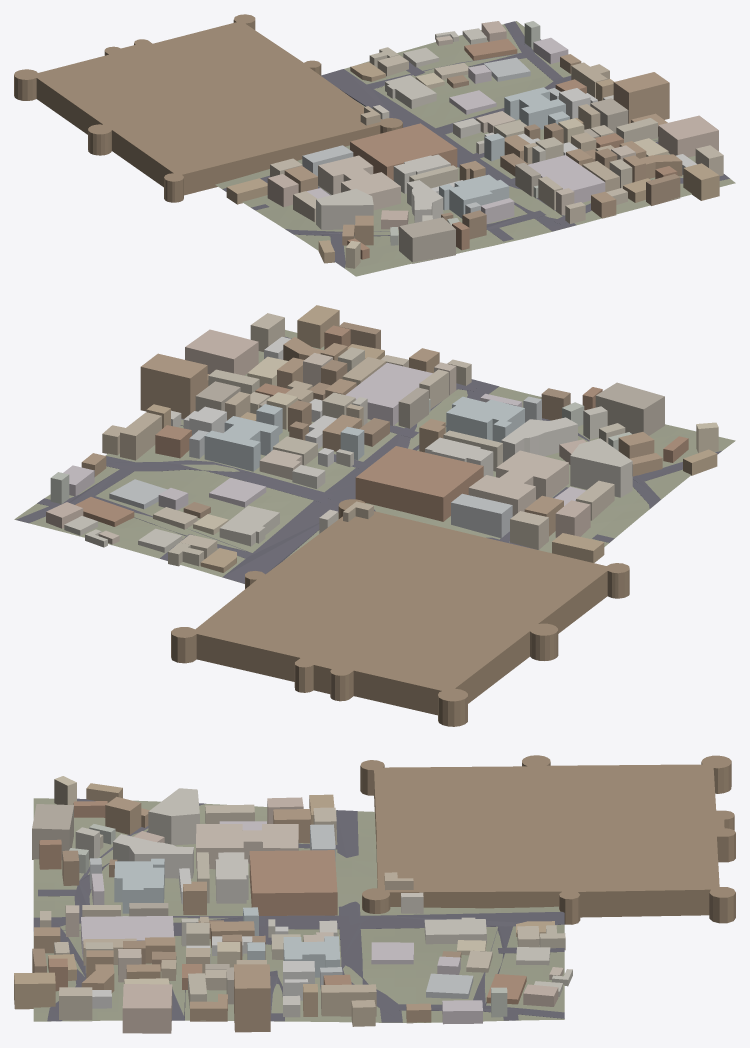
File: chunk_8_4.glb
The picture shows the model from 3 angles, top to bottom: view 1: azimuth 30°, elevation 25°; view 2: azimuth 150°, elevation 25°; view 3: azimuth 270°, elevation 25°; orthographic projection. The views are drawn at different scales.
Visible parts, largest first — view 1: geometry_114, geometry_118, geometry_115, geometry_8, geometry_113, geometry_116, geometry_89, geometry_105, geometry_9, geometry_12, geometry_123, geometry_87 (+39 smaller); view 2: geometry_114, geometry_118, geometry_115, geometry_8, geometry_113, geometry_87, geometry_123, geometry_12, geometry_9, geometry_116, geometry_105, geometry_89 (+32 smaller); view 3: geometry_114, geometry_118, geometry_115, geometry_8, geometry_113, geometry_89, geometry_12, geometry_123, geometry_9, geometry_105, geometry_52, geometry_116 (+57 smaller).
Part boxes in pixels (x1,y1,x2,y2): geometry_114: (14,14,402,202); geometry_118: (215,21,735,276); geometry_115: (350,123,457,180); geometry_8: (318,155,400,210); geometry_113: (613,72,669,123); geometry_116: (399,217,455,263); geometry_89: (658,115,718,157); geometry_105: (528,155,605,203); geometry_9: (439,174,509,218); geometry_12: (316,188,373,229); geometry_123: (321,69,435,129); geometry_87: (504,87,565,129); geometry_114: (171,499,629,726); geometry_118: (14,330,735,583); geometry_115: (355,446,483,521); geometry_8: (468,450,568,516); geometry_113: (140,353,207,418); geometry_87: (204,416,278,471); geometry_123: (222,498,340,583); geometry_12: (570,438,632,497); geometry_9: (446,396,524,442); geometry_116: (595,382,664,435); geometry_105: (345,362,432,425); geometry_89: (185,329,258,375); geometry_114: (360,755,735,924); geometry_118: (33,798,564,1022); geometry_115: (249,850,337,915); geometry_8: (196,824,298,869); geometry_113: (234,964,270,1032); geometry_89: (122,984,172,1033); geometry_12: (148,788,199,845); geometry_123: (349,912,564,928); geometry_9: (114,858,164,913); geometry_105: (81,916,173,957); geometry_52: (113,834,193,878); geometry_116: (32,804,73,859).
Bounding box in the file's own units: 302 × 31.8 × 340.
